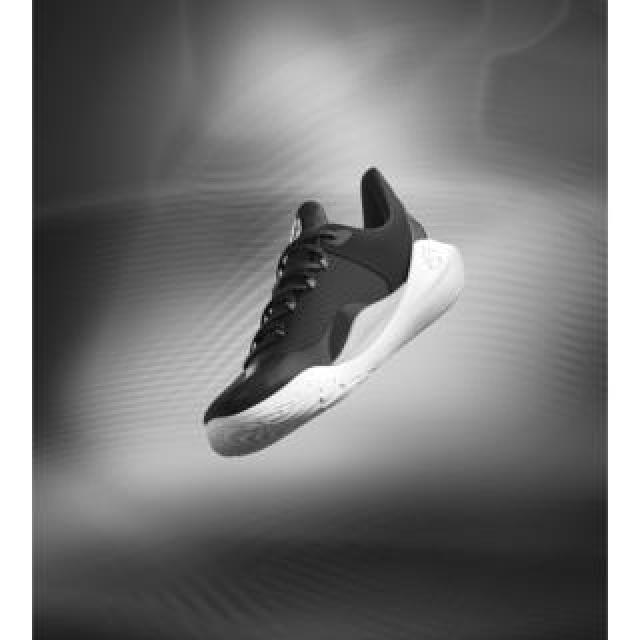shoes: (203, 167, 465, 457)
